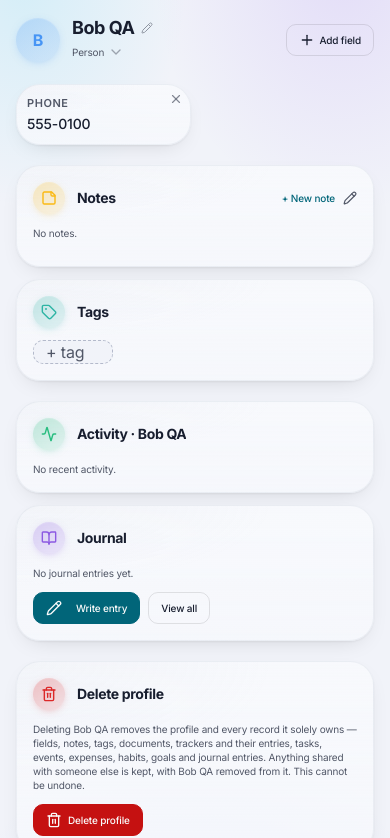
Info tab · delete profile › keeps the profile when the confirmation is declined
Expected: the text "Bob QA" is shown, [72,17,134,40]
What coordinates should you click on to do the following:
click the button with test id "info-delete-profile"
I would click on:
 (88, 820)
Its box is [33,804,143,836].
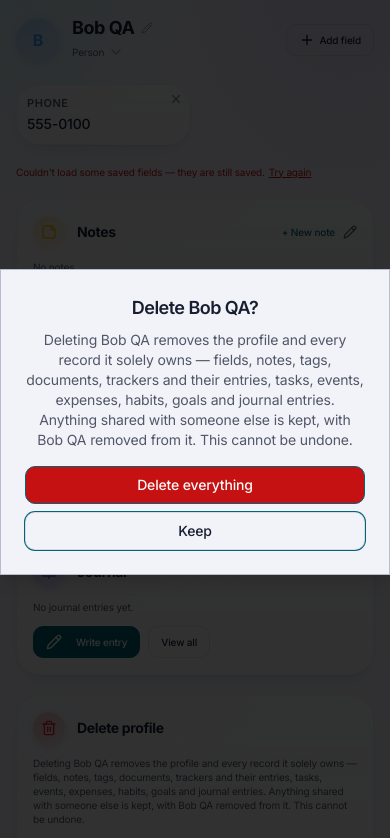
What coordinates should you click on to do the following:
click the button with test id "info-delete-cancel"
I would click on:
 (195, 531)
Its box is [25,512,365,550].
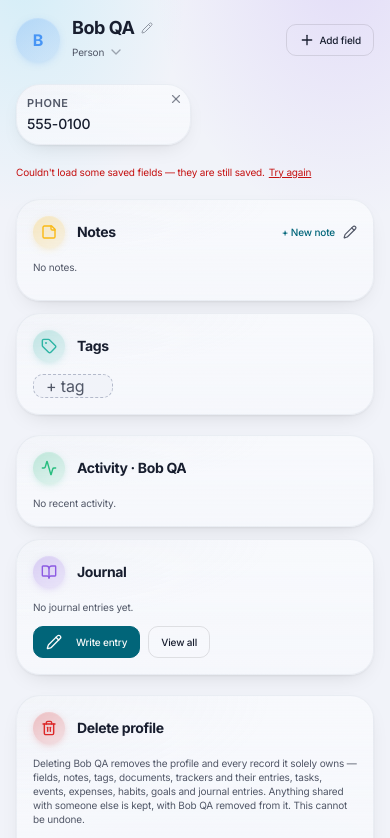
Expected: the dialog with test id "info-delete-confirm" is gone
